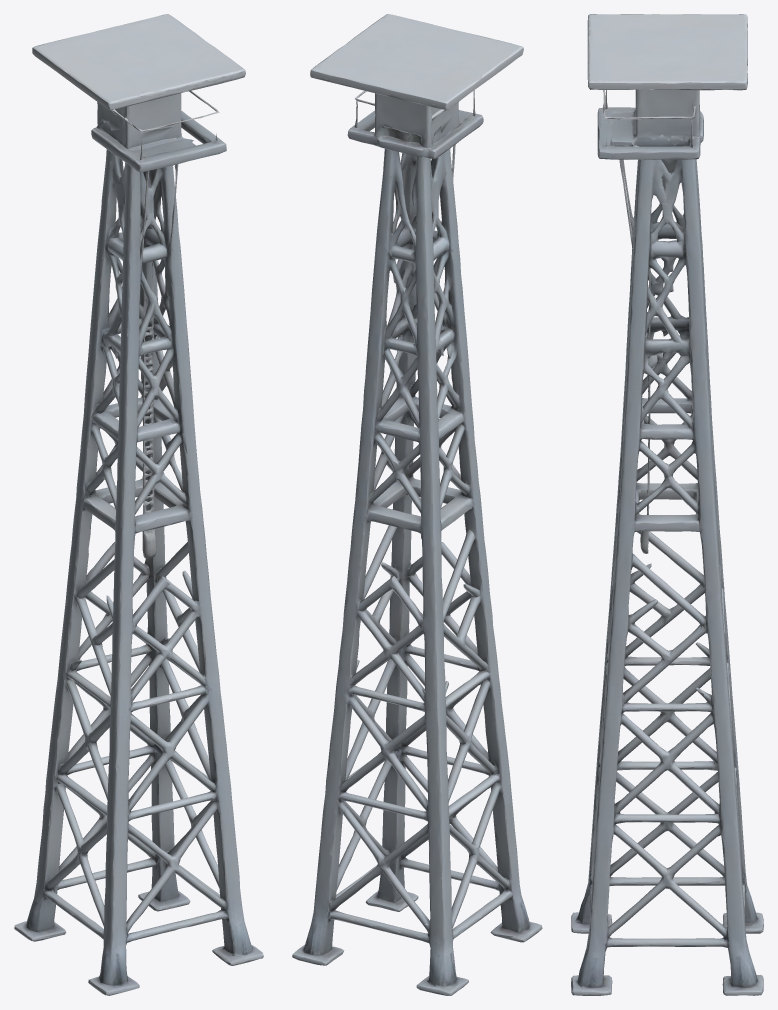
The model's file is mast_lattice.glb.
The picture shows the model from 3 angles, left to right: view 1: azimuth 30°, elevation 25°; view 2: azimuth 150°, elevation 25°; view 3: azimuth 270°, elevation 25°; orthographic projection. The views are drawn at different scales.
Visible parts, largest first — view 1: Mesh; view 2: Mesh; view 3: Mesh.
Part boxes in pixels (x1,y1,x2,y2): Mesh: (14, 14, 263, 995); Mesh: (292, 14, 542, 995); Mesh: (571, 14, 763, 995).
Bounding box in the file's own units: 0.3571 × 1.89 × 0.3633.
Materials: 1 (1 with a texture image).
